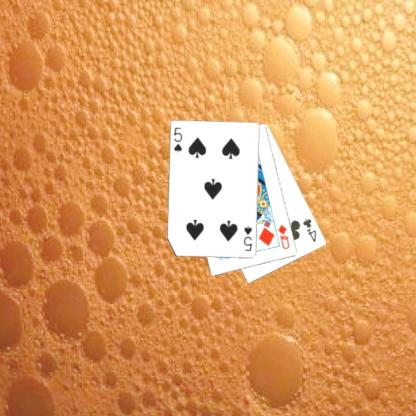4C: (300, 216, 318, 243)
5S: (241, 223, 254, 252), (172, 125, 184, 154)
QD: (275, 221, 291, 250)
